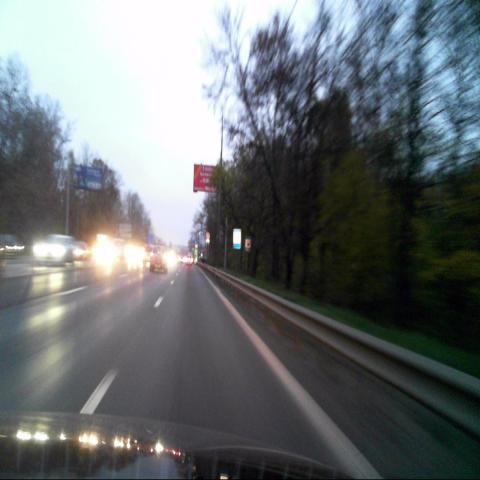7_3: (244, 236, 251, 252)
